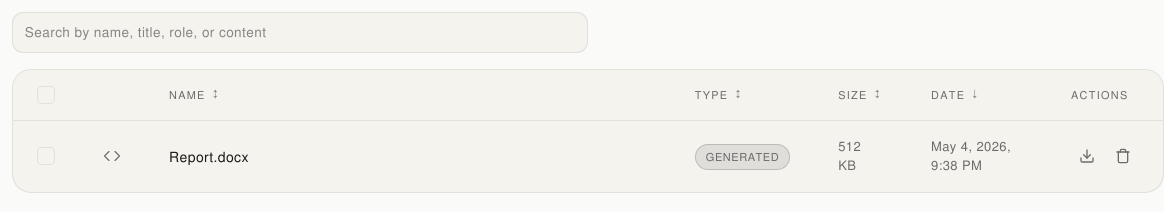
Test: DocumentsList › Empty State › renders empty state message when search has no matches
In the search field named "search documents": (300, 32) top-left (12, 12), bottom-right (588, 53), type "no-hit-query"
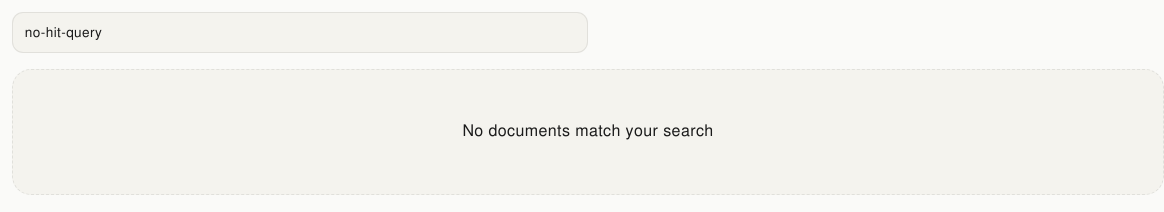
Result: the text "No documents match your search" is shown at top-left (462, 118), bottom-right (714, 142)
